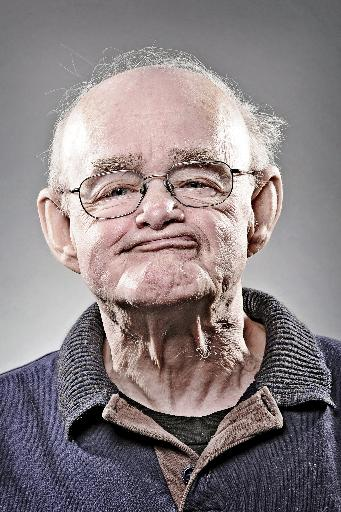left_eye: (176, 179, 217, 193)
left_lip_corner: (188, 234, 202, 249)
right_eye: (94, 184, 138, 204)
right_lip_corner: (114, 245, 132, 257)
